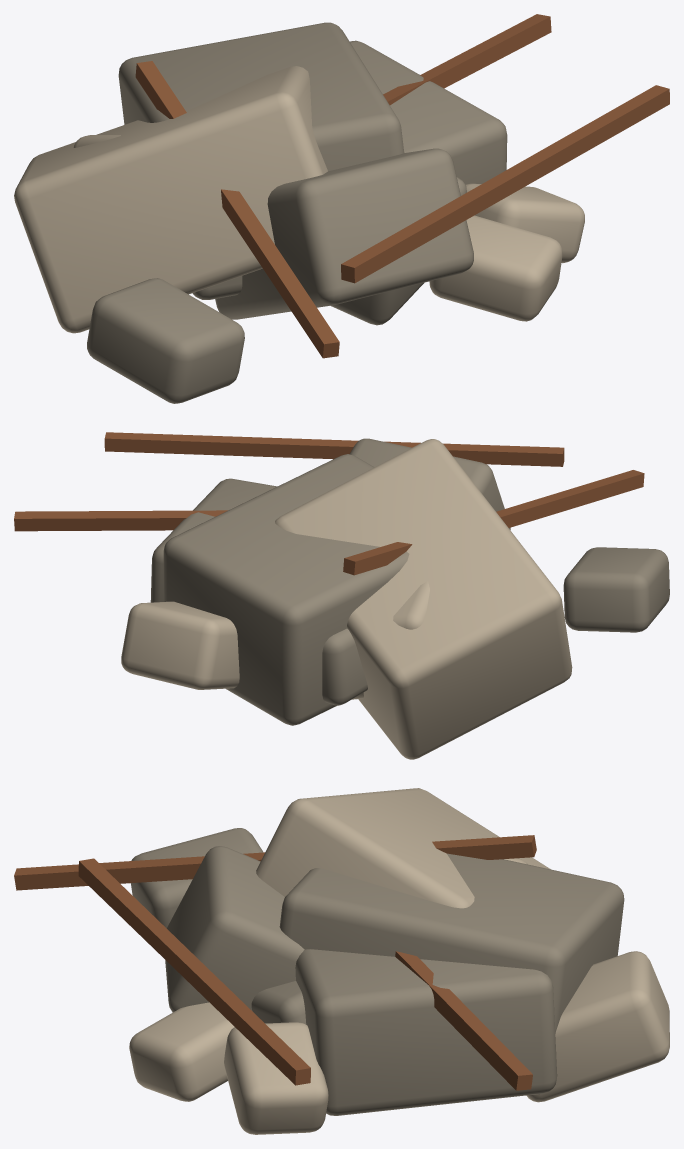
File: rubble.glb
The picture shows the model from 3 angles, top to bottom: view 1: azimuth 30°, elevation 25°; view 2: azimuth 150°, elevation 25°; view 3: azimuth 270°, elevation 25°; orthographic projection. The views are drawn at different scales.
Parts seen in each view (by area): view 1: chunk3, chunk0, chunk8, chunk2, rebar0, chunk10, chunk9, rebar1, chunk1, rebar2, chunk4; view 2: chunk3, chunk8, chunk7, chunk2, rebar0, rebar1, rebar2, chunk10, chunk6, chunk0, chunk5; view 3: chunk10, chunk8, chunk3, chunk0, chunk7, chunk1, chunk9, rebar0, rebar1, rebar2, chunk2, chunk4.
Part boxes in pixels (x1,y1,x2,y2): chunk3: (14, 66, 327, 333); chunk0: (215, 148, 473, 319); chunk8: (118, 22, 404, 299); chunk2: (87, 278, 244, 403); rebar0: (341, 85, 669, 283); chunk10: (350, 40, 507, 184); chunk9: (429, 215, 562, 321); rebar1: (135, 61, 339, 358); chunk1: (466, 183, 584, 263); rebar2: (383, 14, 551, 105); chunk4: (330, 177, 466, 325); chunk3: (275, 439, 572, 759); chunk8: (163, 454, 409, 725); chunk7: (121, 601, 239, 689); chunk2: (563, 547, 669, 632); rebar0: (104, 432, 564, 466); rebar1: (343, 470, 644, 575); rebar2: (14, 510, 227, 531); chunk10: (150, 478, 277, 602); chunk6: (322, 628, 367, 705); chunk0: (350, 438, 510, 529); chunk5: (352, 581, 429, 699); chunk10: (295, 949, 557, 1115); chunk8: (279, 853, 624, 1094); chunk3: (256, 788, 550, 908); chunk0: (165, 846, 304, 1012); chunk7: (526, 951, 669, 1102); chunk1: (224, 1022, 328, 1134); chunk9: (129, 1002, 234, 1101); rebar0: (78, 858, 310, 1085); rebar1: (14, 835, 536, 890); rebar2: (395, 951, 532, 1090); chunk2: (131, 828, 263, 927); chunk4: (251, 981, 306, 1024).
Bounding box in the file's own units: 2.09 × 0.8902 × 1.98.
